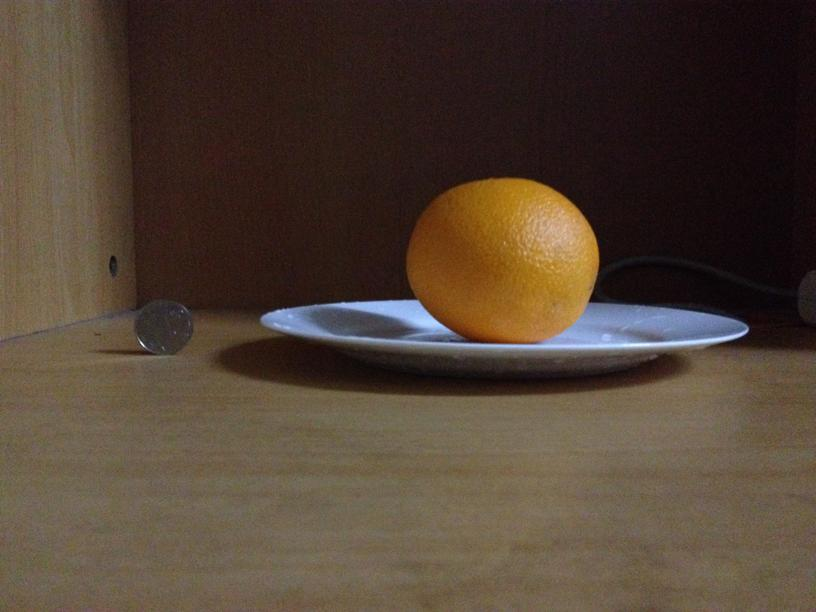coin: (135, 297, 193, 353)
orange: (403, 177, 601, 345)
